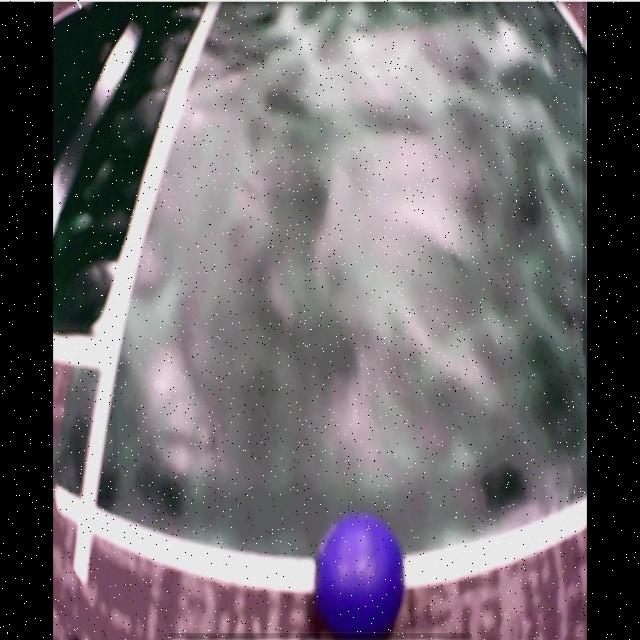ball: (316, 515, 403, 638)
